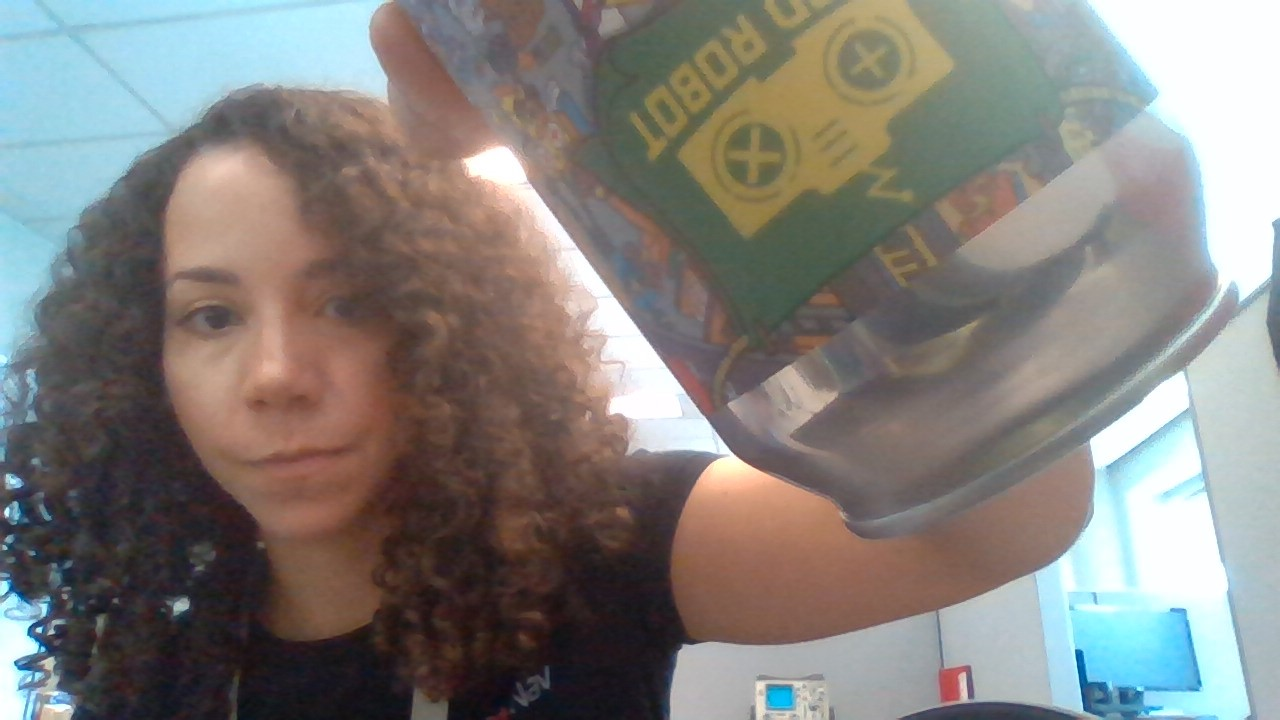Good Robot: (675, 1, 978, 241)
